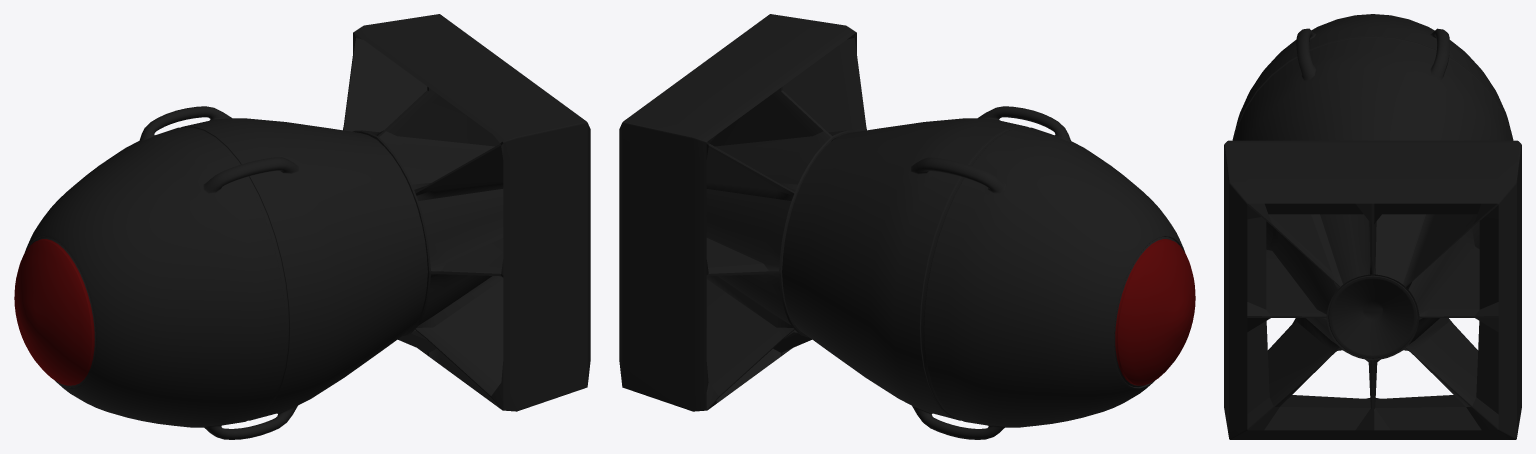
File: Nuke.fbx
The picture shows the model from 3 angles, left to right: view 1: azimuth 30°, elevation 25°; view 2: azimuth 150°, elevation 25°; view 3: azimuth 270°, elevation 25°; orthographic projection. The views are drawn at different scales.
Visible parts, largest first — view 1: nuke_GEO, wing_GEO; view 2: nuke_GEO, wing_GEO; view 3: wing_GEO, nuke_GEO.
Boxes of the visible parts, x1,y1,x2,y2 form: nuke_GEO: (14,106,427,439); wing_GEO: (343,14,590,411); nuke_GEO: (782,106,1195,439); wing_GEO: (619,14,866,411); wing_GEO: (1224,140,1521,439); nuke_GEO: (1232,14,1513,358).
Size of the model in its own units: 40.57 by 21.35 by 21.61.
